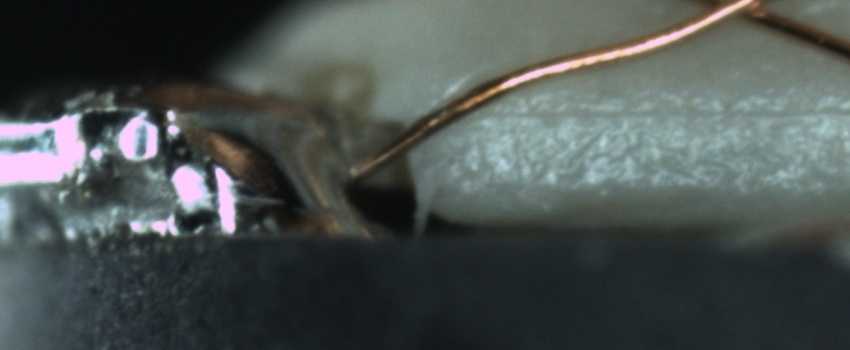CL: (678, 0, 780, 29)
DL: (479, 79, 850, 140)
